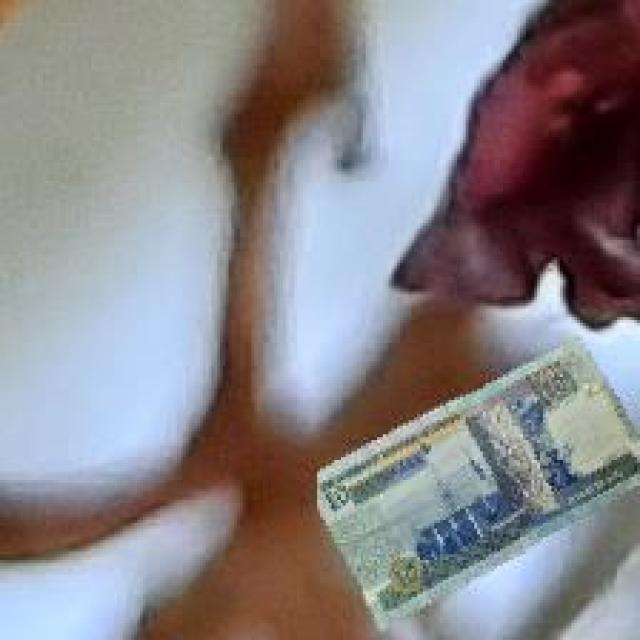10-dinar: (316, 332, 640, 634)
